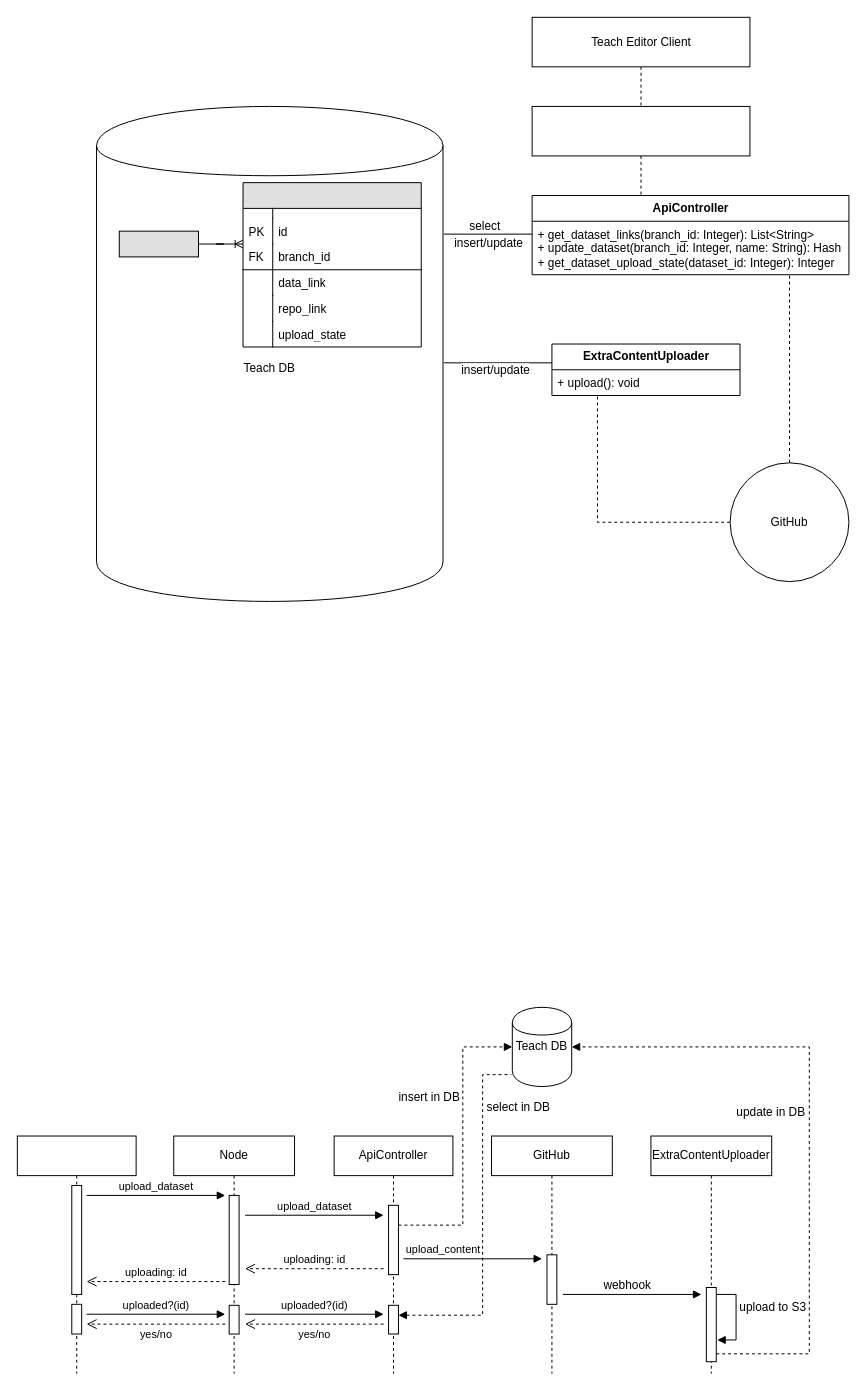
Image size: 866x1391. Some labels were removed from this diagram. The shapes that lost their labels are listed below. From the top down, each one's box as (x1, y1, x2, y2) in pixels, then its label:
(531, 105, 750, 156): Teach Editor Node
(118, 230, 198, 257): Branch
(242, 182, 421, 347): Dataset
(16, 1135, 136, 1374): Editor
